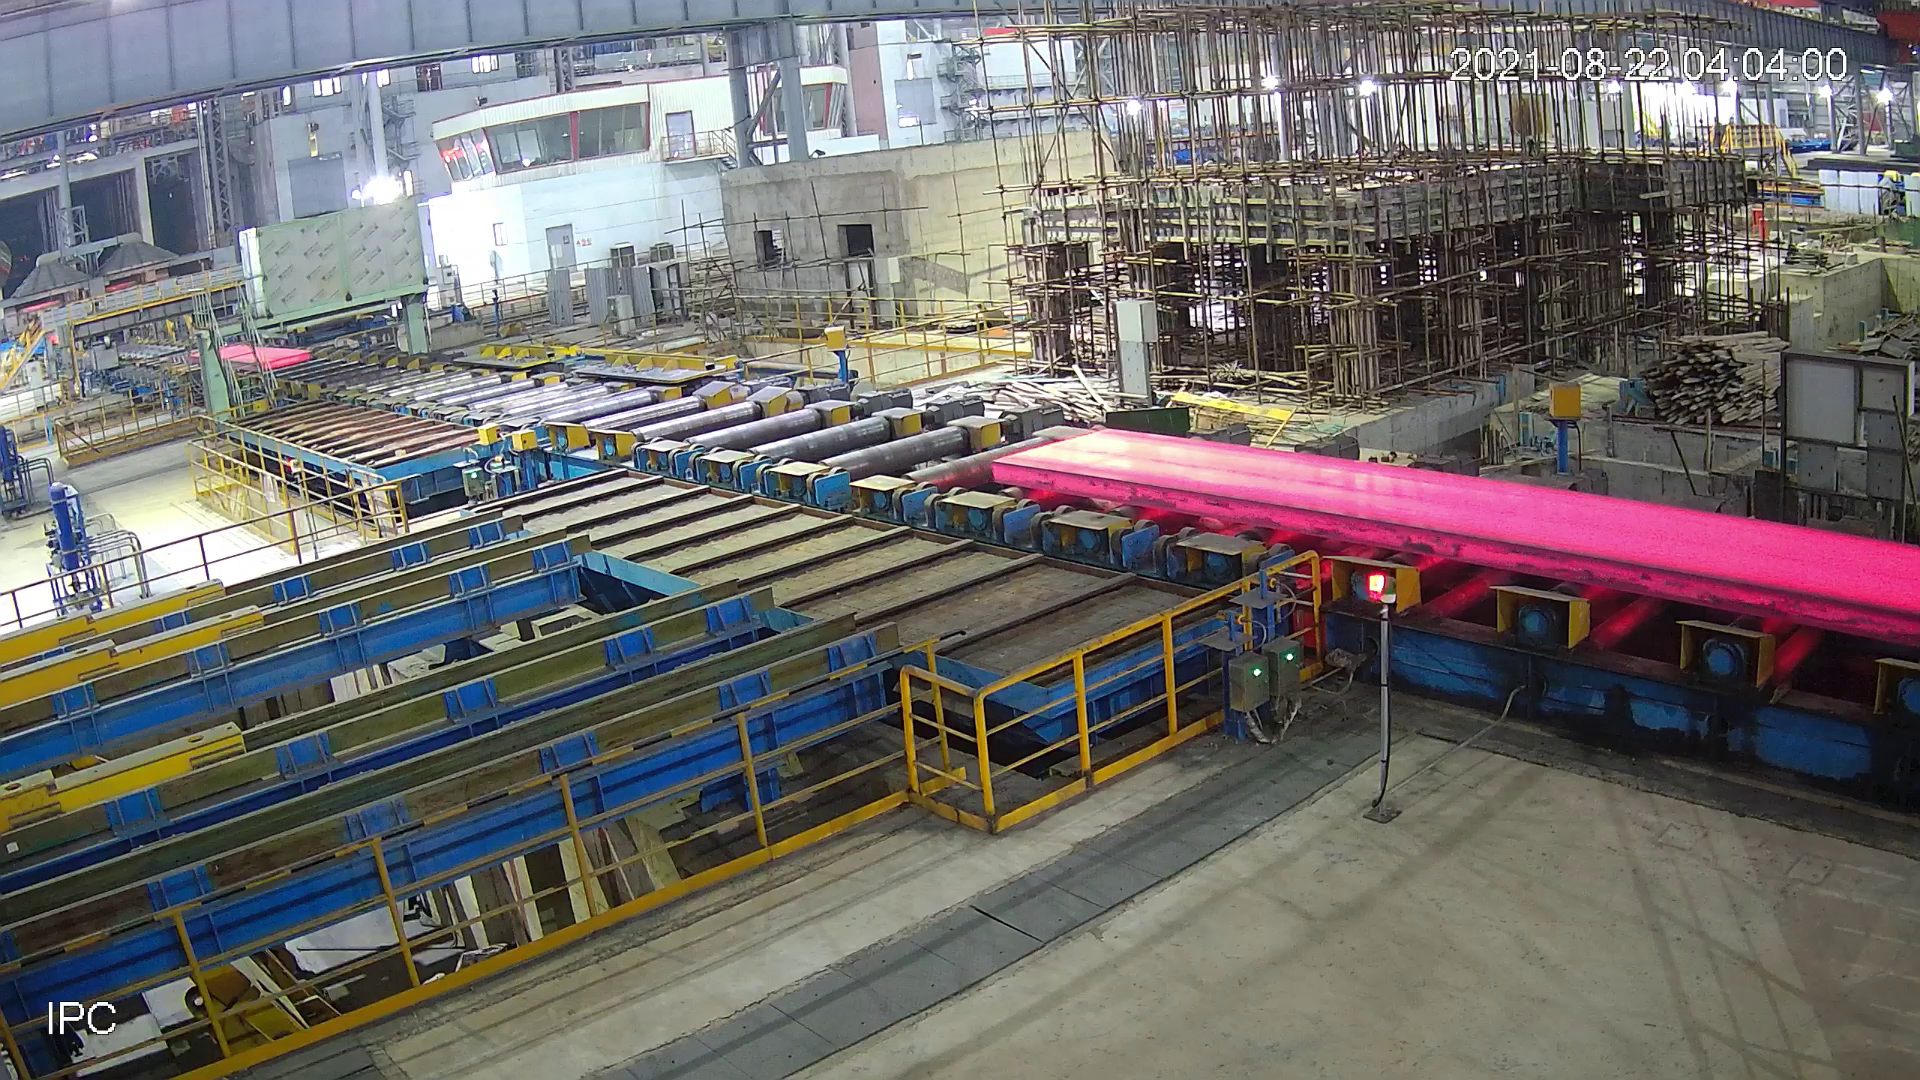slab: (978, 419, 1920, 662), (187, 339, 316, 373)
